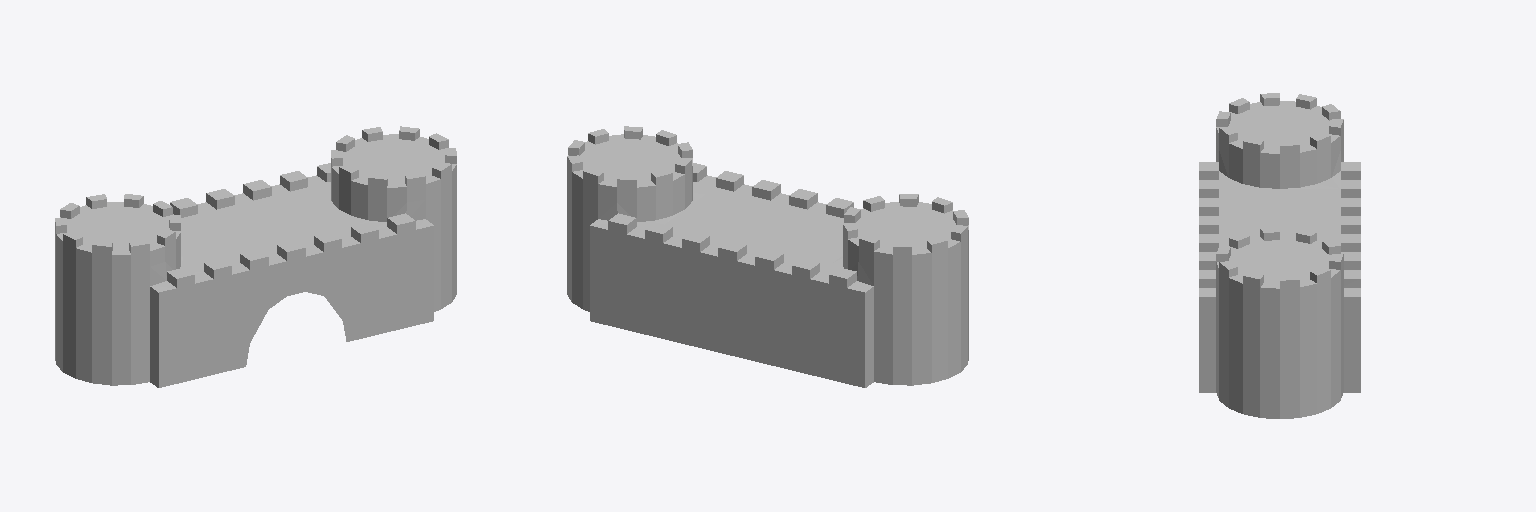
The model's file is CastleOBJ.obj.
The picture shows the model from 3 angles: view 1: azimuth 30°, elevation 25°; view 2: azimuth 150°, elevation 25°; view 3: azimuth 270°, elevation 25°; orthographic projection.
Parts seen in each view (by area): view 1: Castle; view 2: Castle; view 3: Castle.
Boxes of the visible parts, <box> form: Castle: <box>55,126,456,387</box>; Castle: <box>567,126,968,387</box>; Castle: <box>1199,93,1360,418</box>.
Bounding box in the file's own units: 14.14 × 4.85 × 5.12.